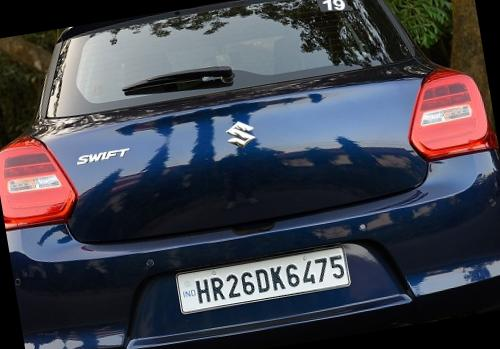plate: (154, 232, 363, 327)
